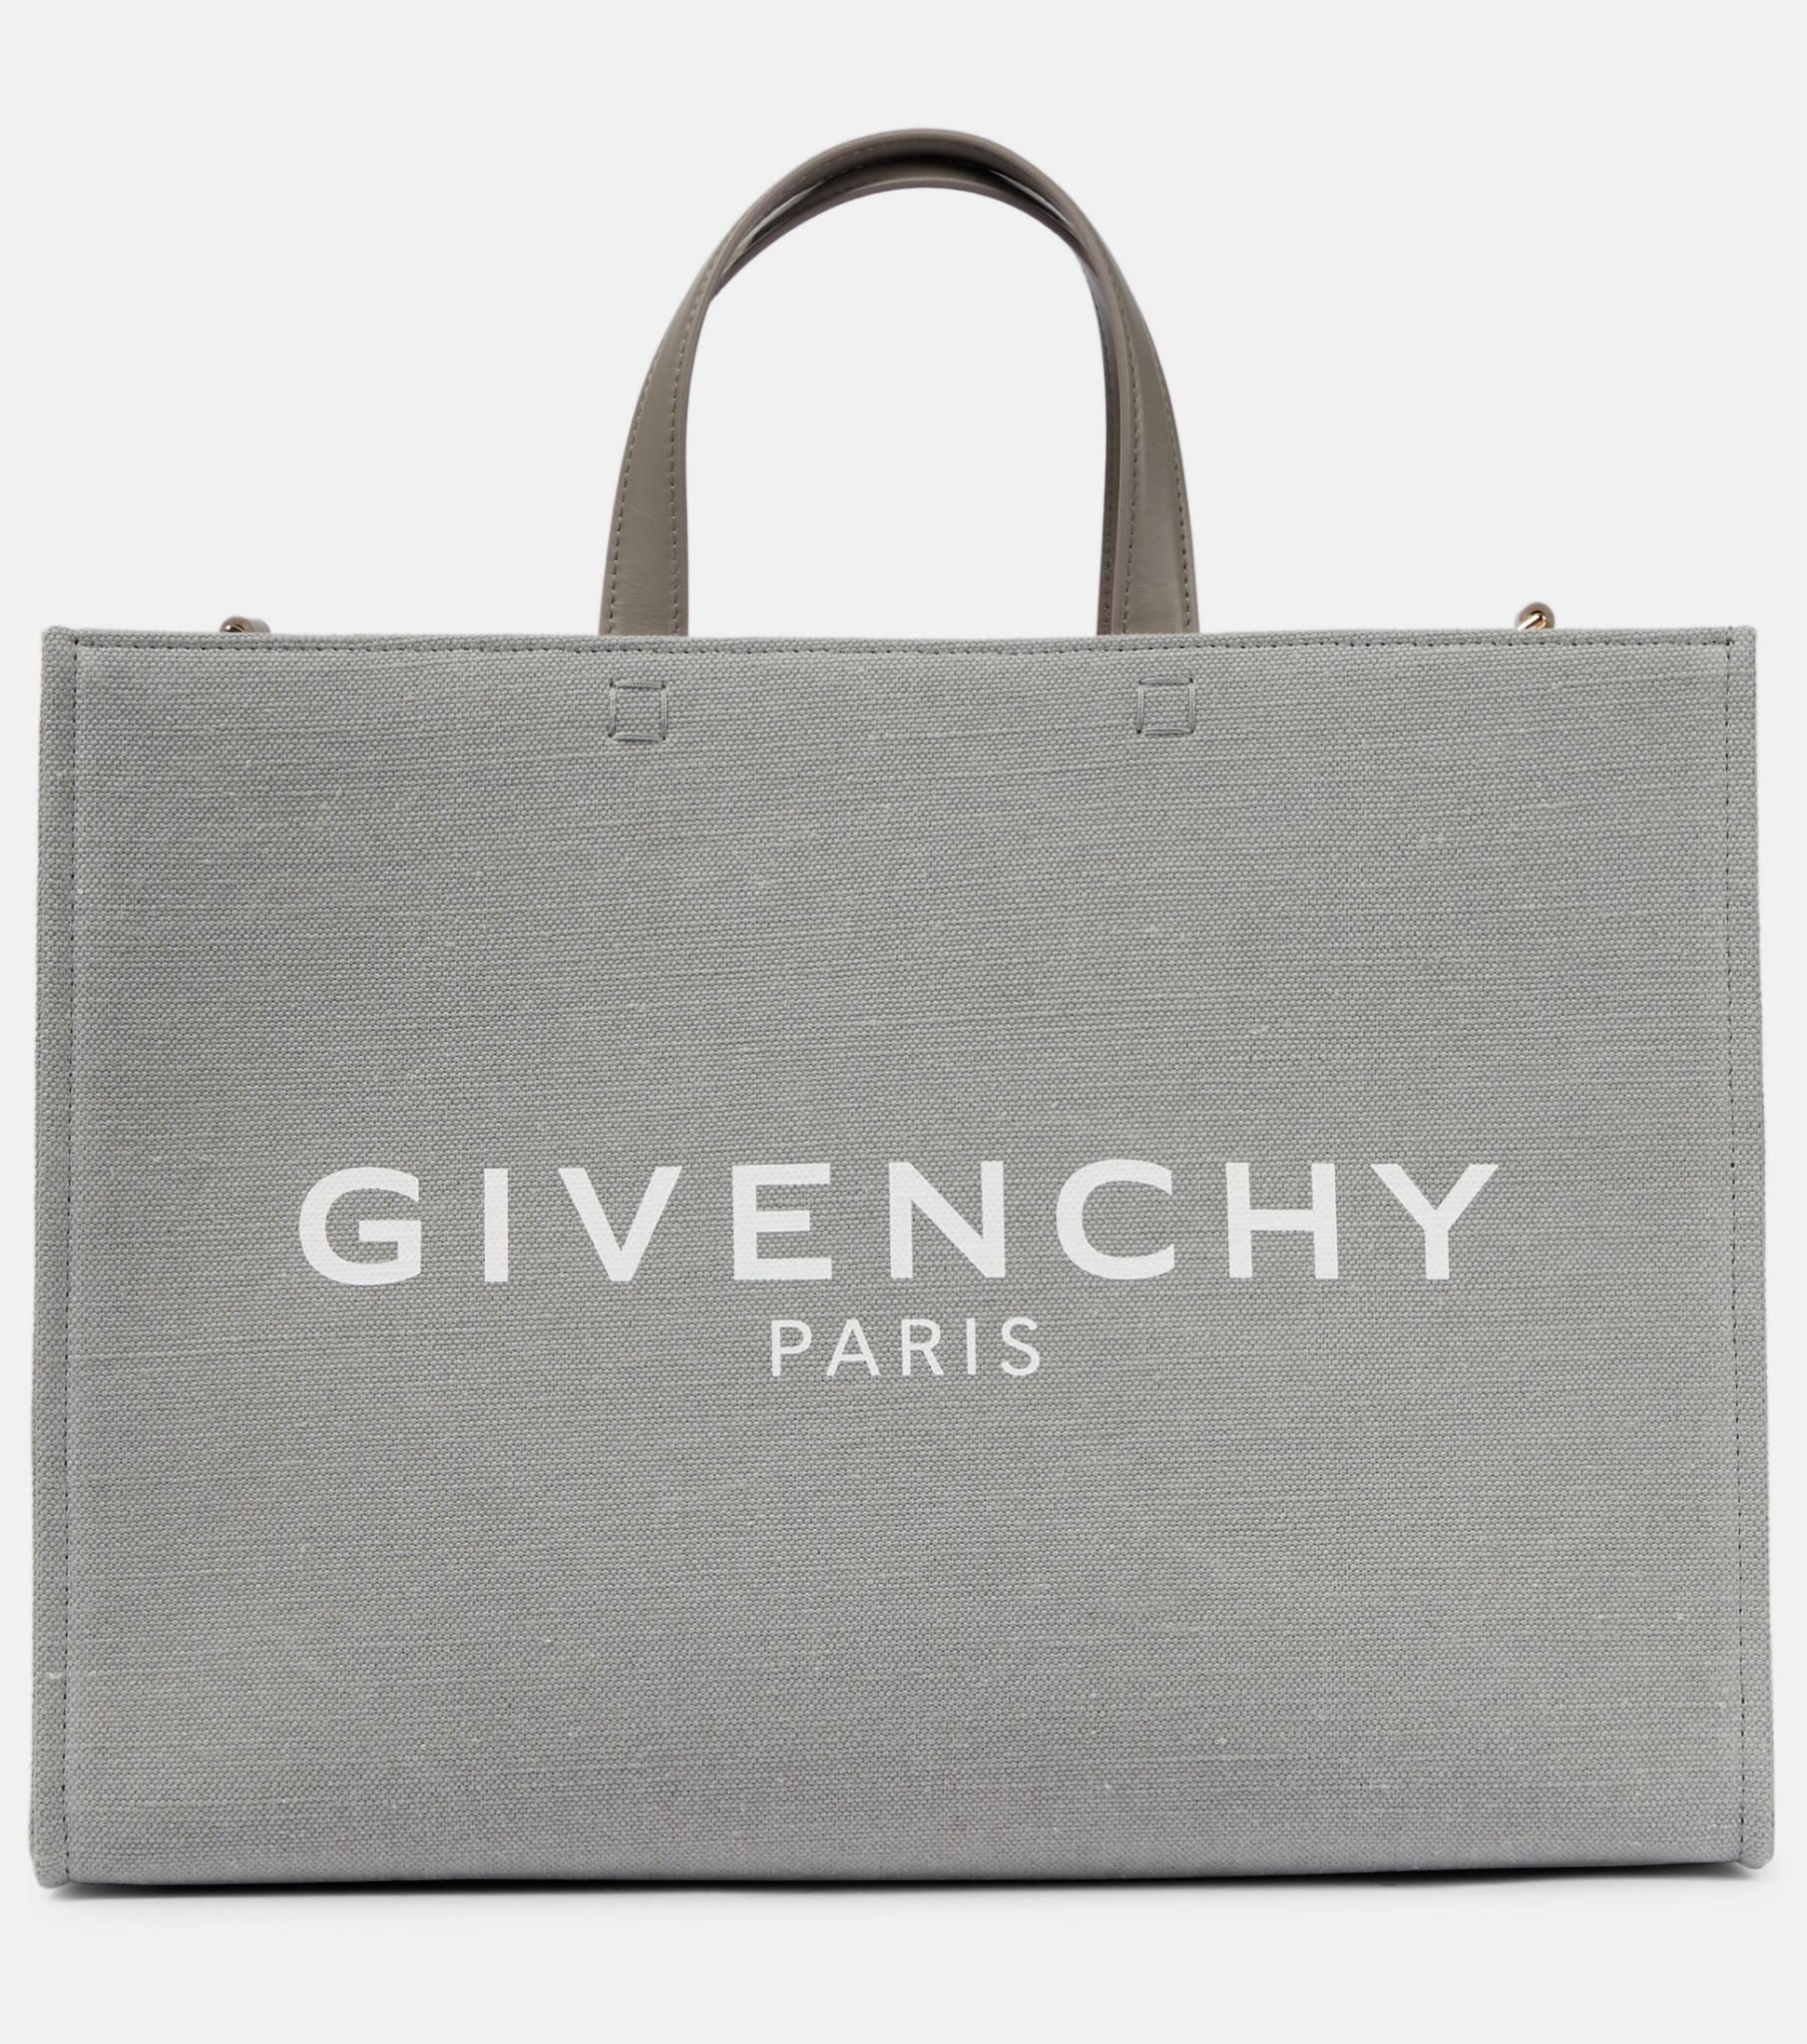GIVENCHY: (248, 1104, 1533, 1332)
